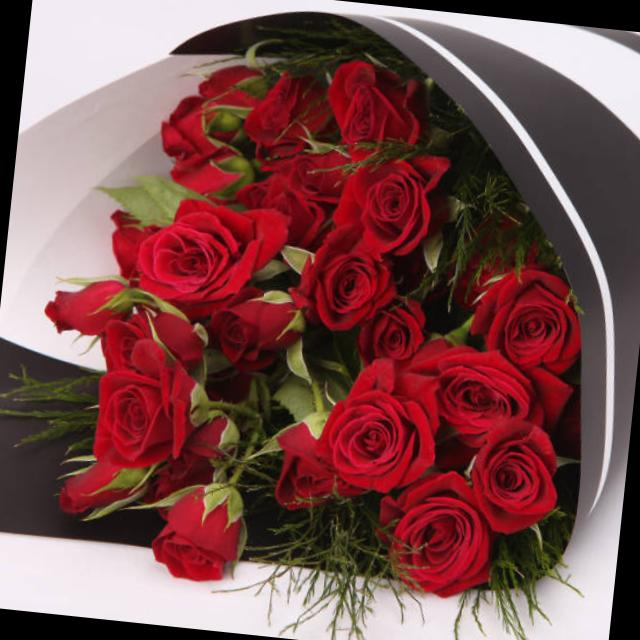paper: (87, 81, 618, 635), (326, 372, 449, 502)
